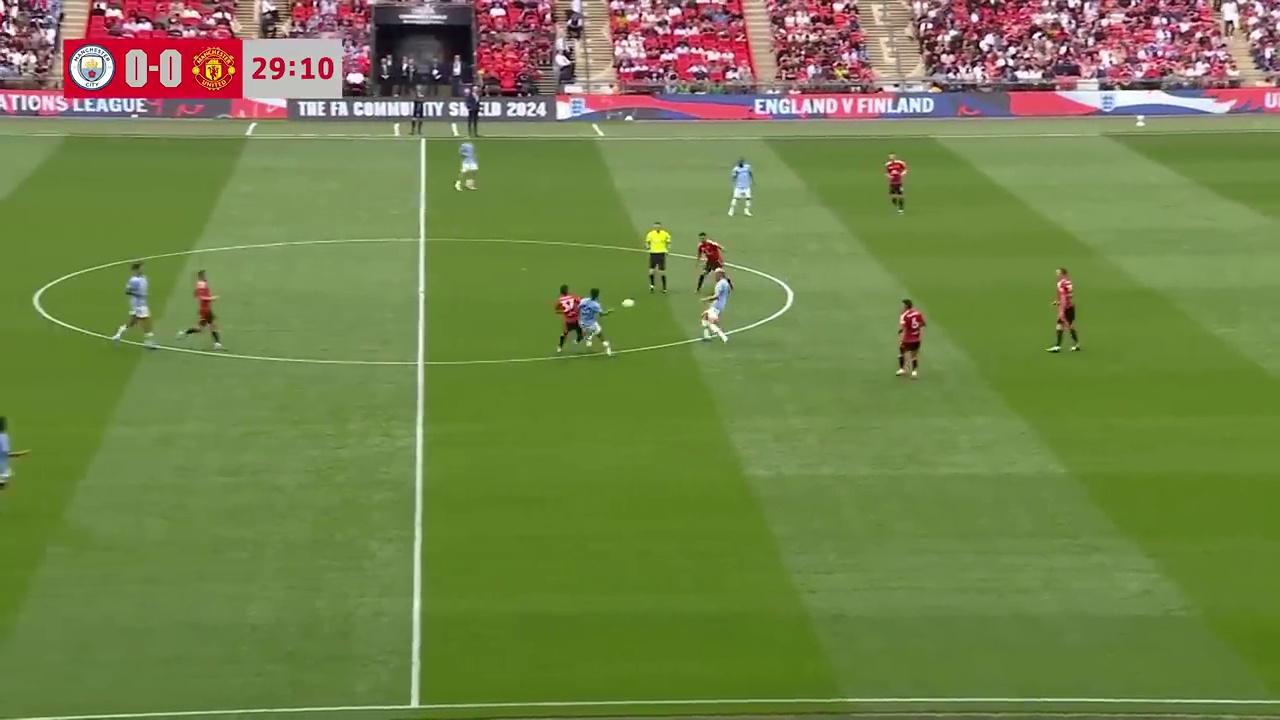ball: (620, 295, 636, 310)
player: (116, 261, 157, 349), (178, 269, 223, 347), (1048, 268, 1081, 353), (698, 269, 733, 346), (578, 287, 613, 357), (0, 415, 30, 496), (896, 298, 925, 379), (553, 283, 586, 352), (694, 232, 723, 295), (727, 156, 754, 217), (884, 154, 907, 214), (454, 140, 479, 191)
referee: (644, 222, 671, 294)
